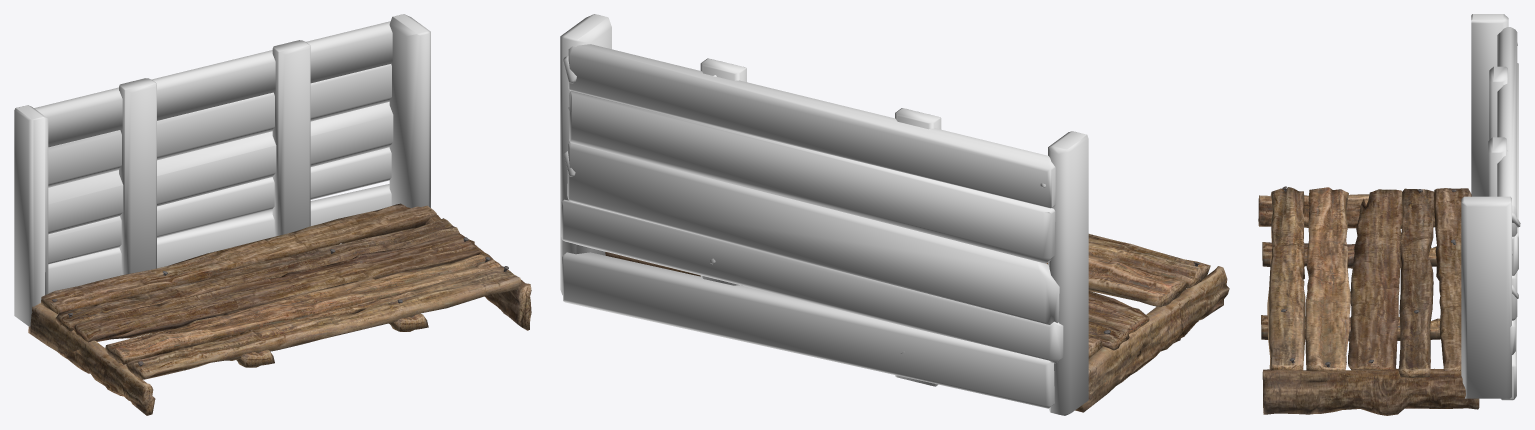
File: SM_WoodenFloor_half_A.fbx
3 views of the same model, side by side, from view 1: azimuth 30°, elevation 25°; view 2: azimuth 150°, elevation 25°; view 3: azimuth 270°, elevation 25° (orthographic). The views are drawn at different scales.
Parts seen in each view (by area): view 1: SM_WoodenFloor_half_A_ConvexHulls, SM_WoodenFloor_half_A; view 2: SM_WoodenFloor_half_A_ConvexHulls, SM_WoodenFloor_half_A; view 3: SM_WoodenFloor_half_A, SM_WoodenFloor_half_A_ConvexHulls.
Boxes of the visible parts, x1=… form: SM_WoodenFloor_half_A_ConvexHulls: x1=14, y1=14, x2=430, y2=326; SM_WoodenFloor_half_A: x1=28, y1=203, x2=531, y2=415; SM_WoodenFloor_half_A_ConvexHulls: x1=560, y1=14, x2=1088, y2=415; SM_WoodenFloor_half_A: x1=605, y1=234, x2=1229, y2=412; SM_WoodenFloor_half_A: x1=1258, y1=186, x2=1479, y2=415; SM_WoodenFloor_half_A_ConvexHulls: x1=1461, y1=14, x2=1520, y2=400.
Size of the model in its own units: 3.05 by 1.65 by 1.8.
